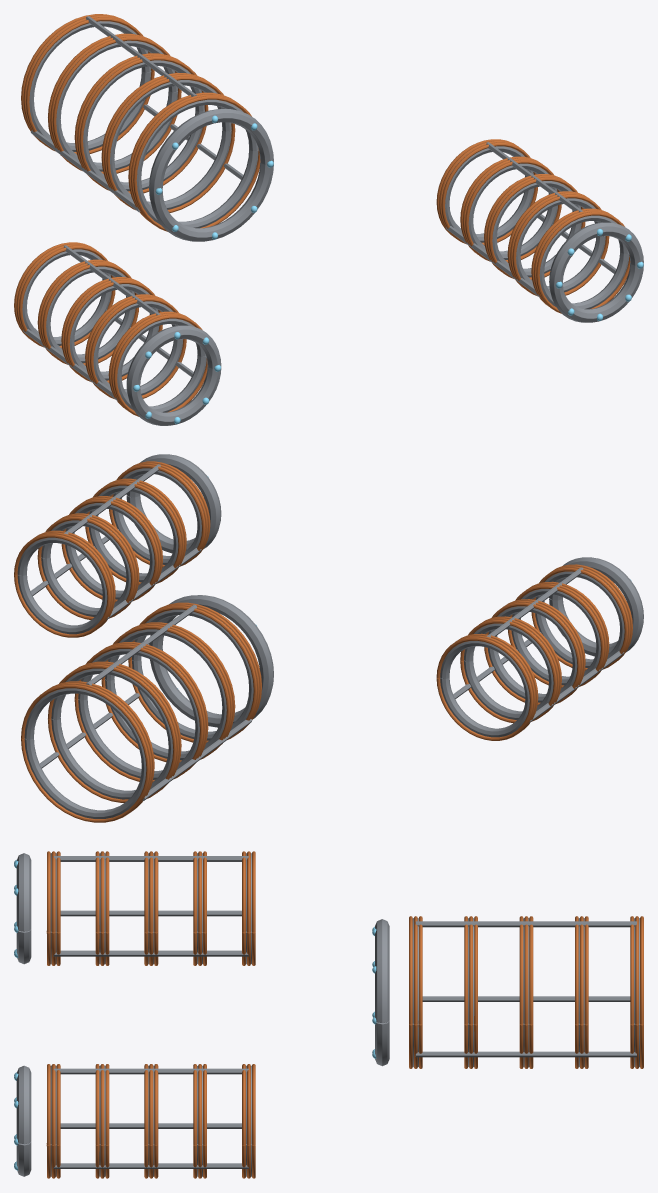
File: nomad_engine_ep.fbx
The picture shows the model from 3 angles, top to bottom: view 1: azimuth 30°, elevation 25°; view 2: azimuth 150°, elevation 25°; view 3: azimuth 270°, elevation 25°; orthographic projection. The views are drawn at different scales.
Visible parts, largest first — view 1: Engine_Coils; view 2: Engine_Coils; view 3: Engine_Coils.
Part boxes in pixels (x1=…): Engine_Coils: x1=14, y1=14, x2=643, y2=425; Engine_Coils: x1=14, y1=454, x2=643, y2=822; Engine_Coils: x1=14, y1=851, x2=643, y2=1178.
Size of the model in its own units: 251 by 64.93 by 256.
